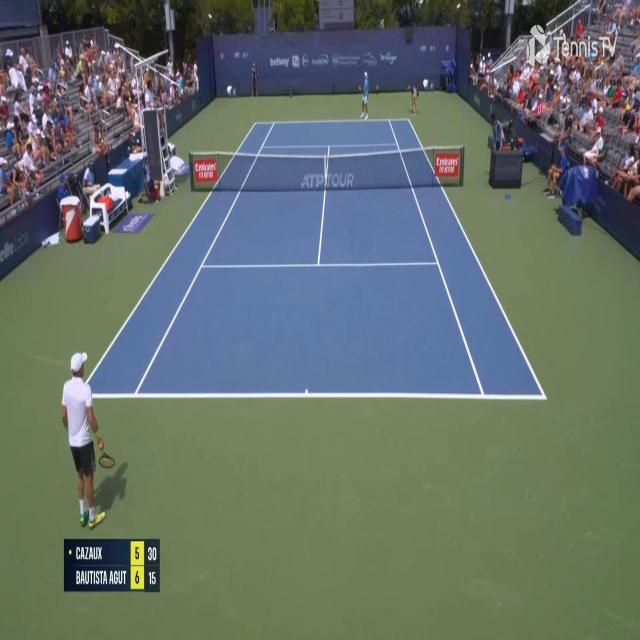tennis-player: (59, 338, 129, 530), (357, 69, 371, 122)
